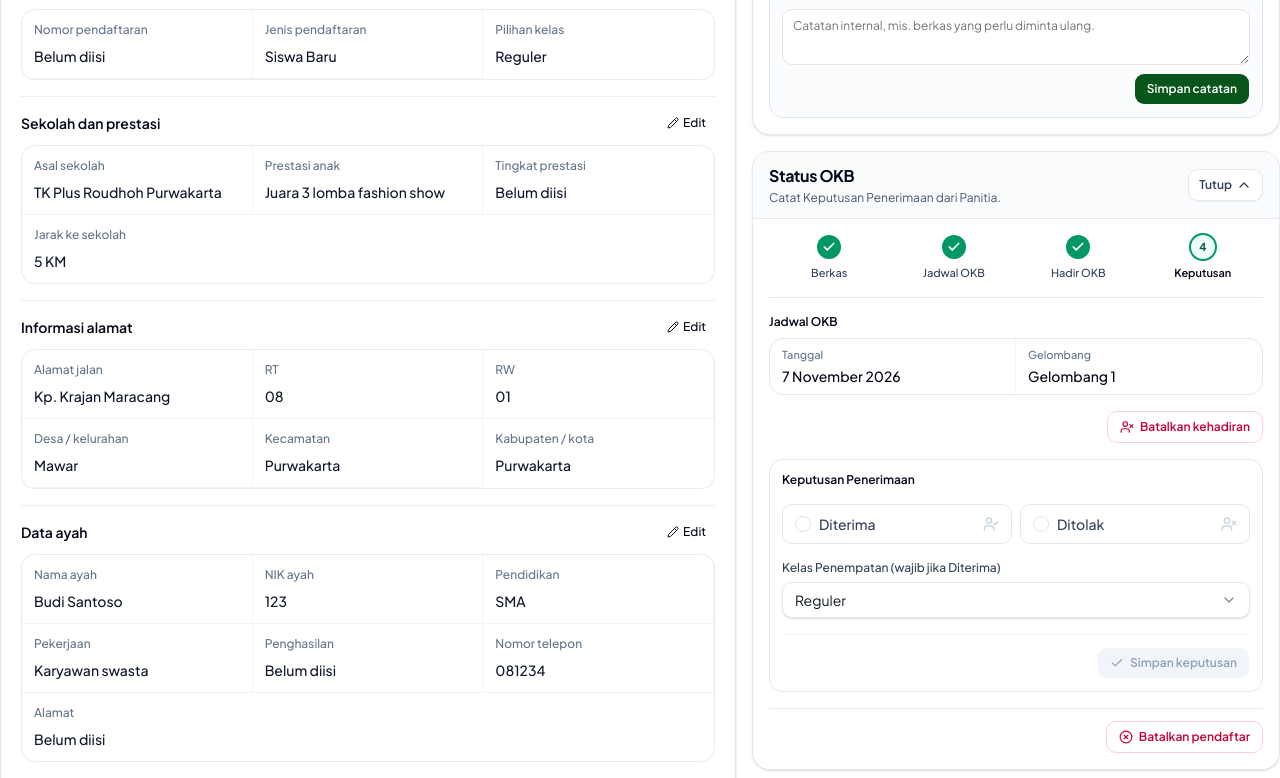
Test case: ParticipantDetail › asks for confirmation before undoing attendance
(page scrolled)
Expected: the button "ya, batalkan kehadiran" is not shown
Click the button "Batalkan kehadiran".
click(1185, 426)  # box [1107,410,1263,442]
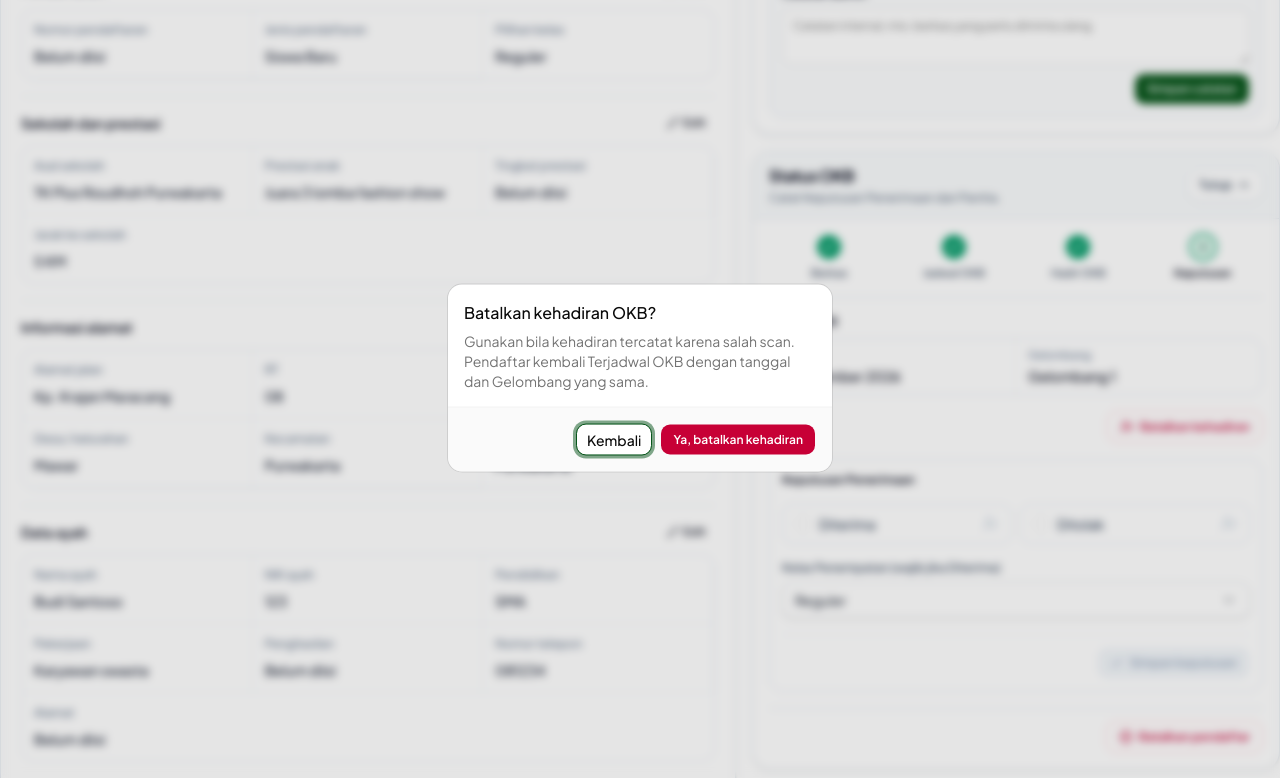
Expected: the dialog shows "kembali Terjadwal OKB", [464,332,795,390]
Expected: the button "Ya, batalkan kehadiran" holds "unattend", [660,424,816,456]
